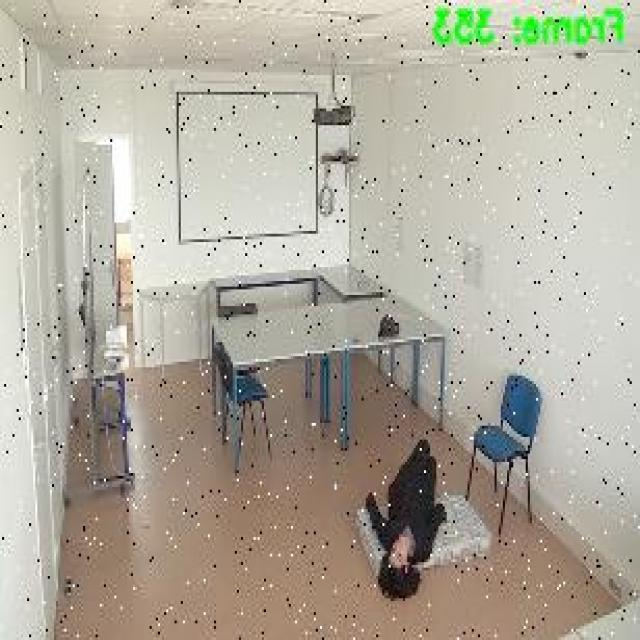fall: (359, 434, 448, 601)
